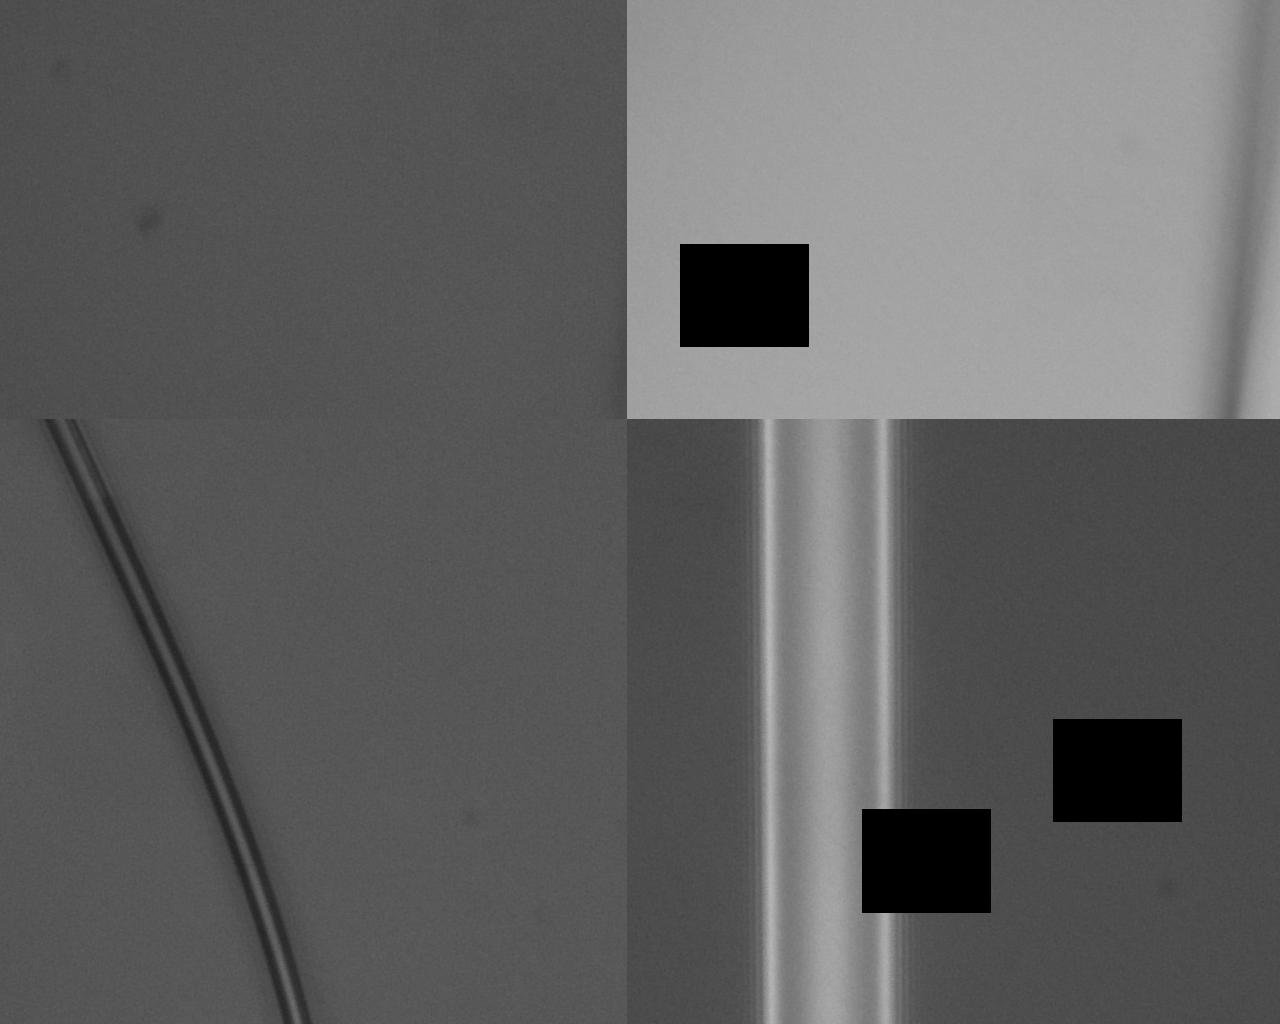fiber: (764, 552, 844, 1024), (102, 0, 163, 552)
